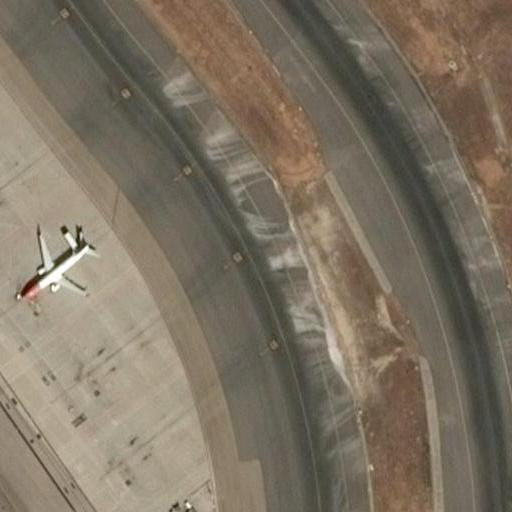Aircraft: (14, 225, 92, 312)
